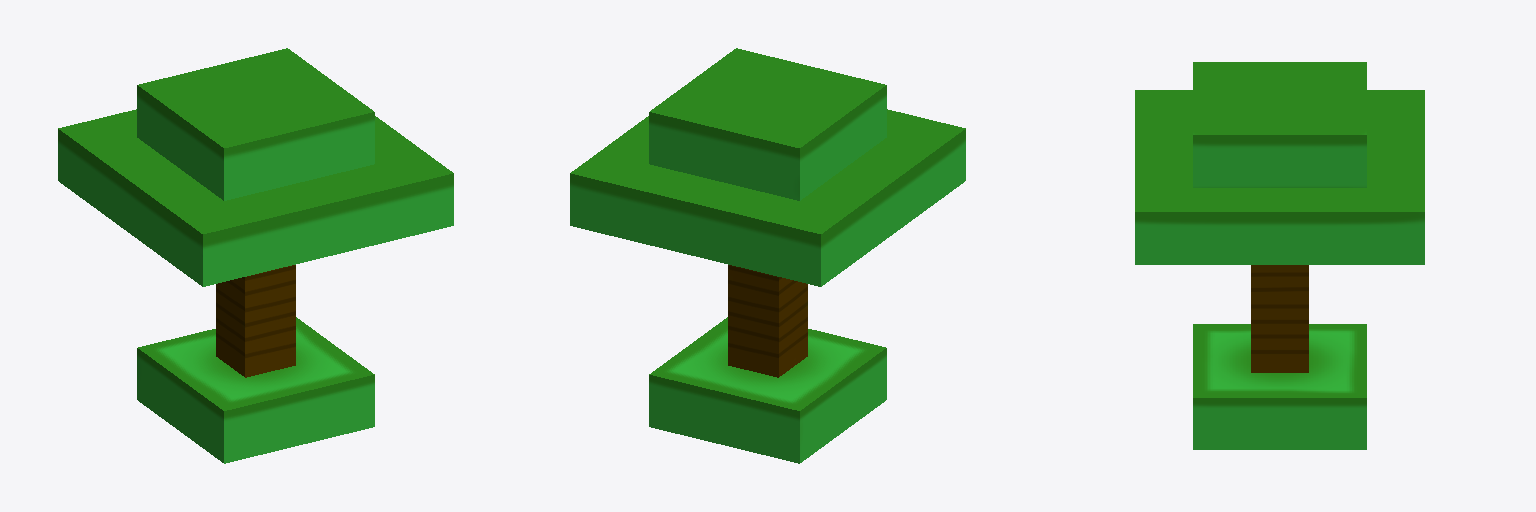
The picture shows the model from 3 angles: view 1: azimuth 30°, elevation 25°; view 2: azimuth 150°, elevation 25°; view 3: azimuth 270°, elevation 25°; orthographic projection.
Visible parts, largest first — view 1: Cube_Cube.002; view 2: Cube_Cube.002; view 3: Cube_Cube.002.
Part boxes in pixels (left/top/right/bottom): Cube_Cube.002: left=58, top=48, right=453, bottom=463; Cube_Cube.002: left=570, top=48, right=965, bottom=463; Cube_Cube.002: left=1135, top=62, right=1424, bottom=449.
Size of the model in its own units: 10 by 12 by 10.
Materials: 1 (1 with a texture image).